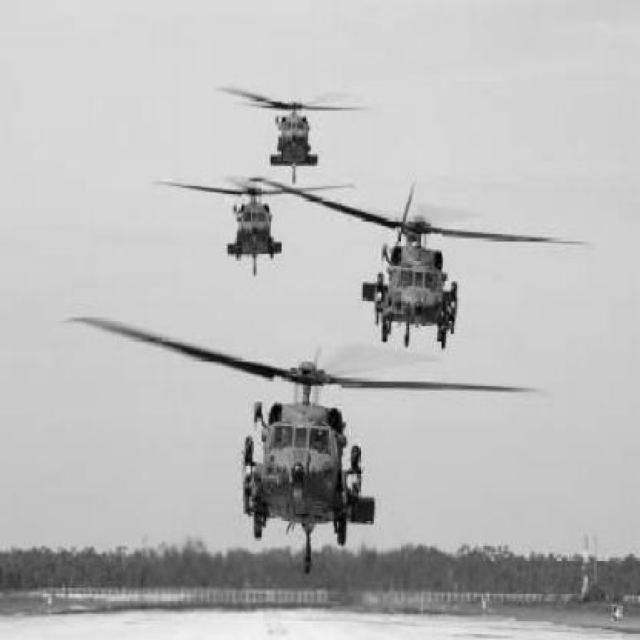helikopter: (64, 313, 542, 582), (273, 169, 602, 368), (150, 170, 356, 290), (208, 75, 366, 180)
